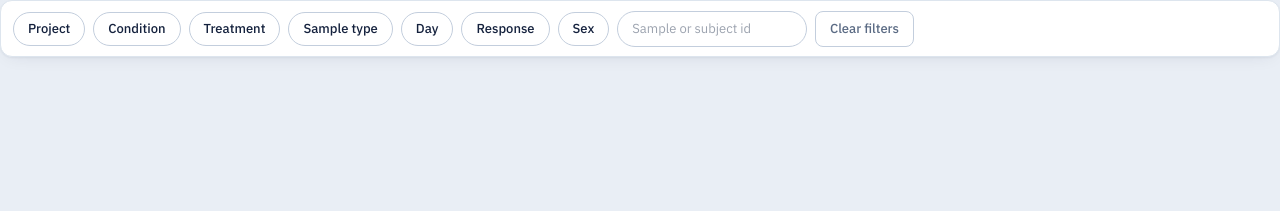
Test: FilterBar › labels response and day values in the user's terms
Click the heading "Response" at (505, 29), box [461,12,550,46]
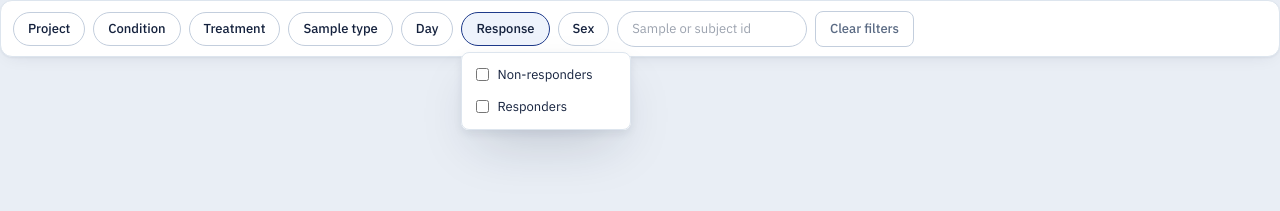
Expected: the checkbox labelled "Responders" is shown, [476,100,489,113]
Click the heading "Day" at (427, 29), box [401,12,453,46]
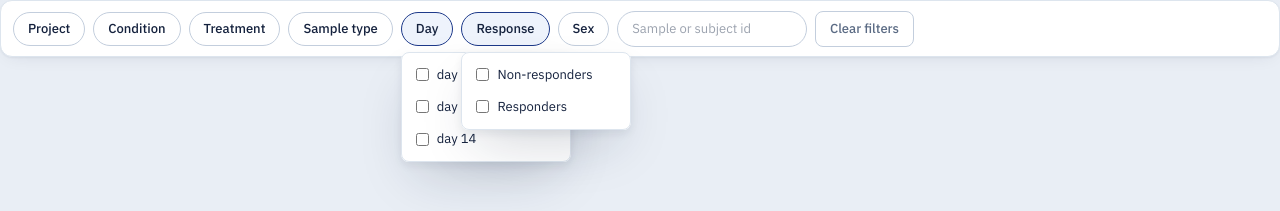
Expected: the checkbox labelled "day 0" is shown, [416,68,429,81]
